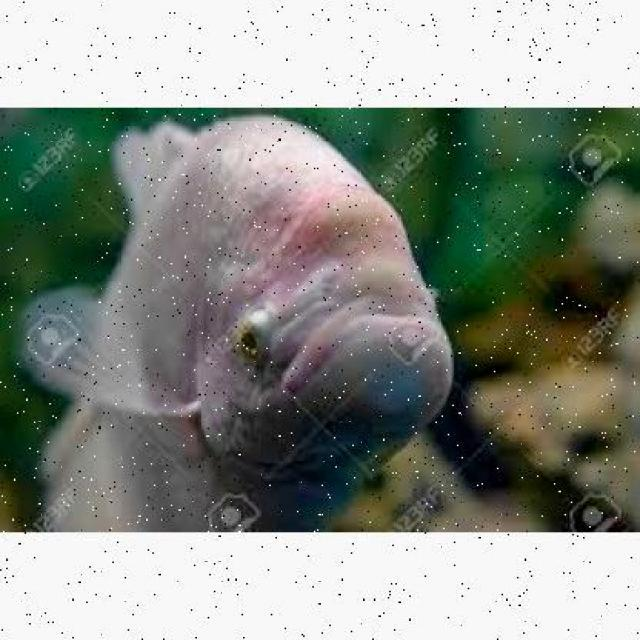gurame: (43, 106, 483, 531)
